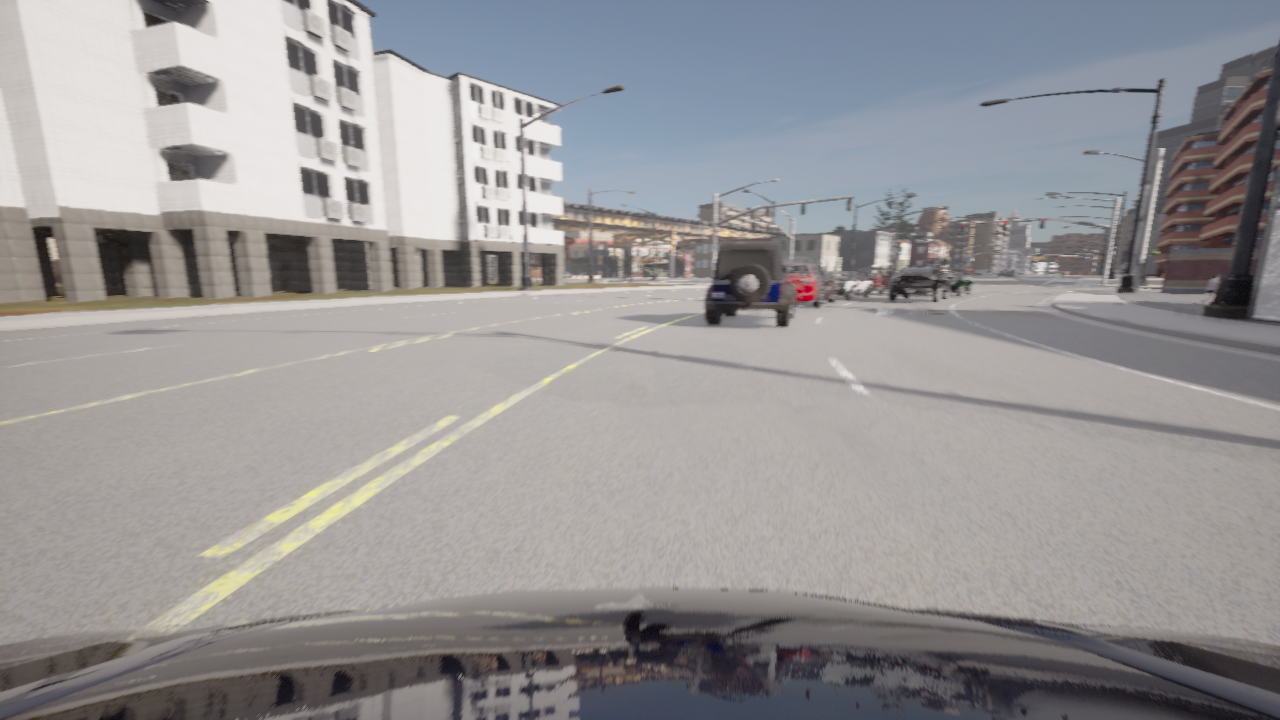cyclist: (0, 588, 1279, 719), (705, 242, 796, 327), (783, 261, 836, 307), (889, 266, 952, 302), (827, 272, 871, 299), (857, 268, 895, 295), (942, 272, 972, 296), (564, 272, 577, 277), (579, 272, 588, 277)
pedestrian: (1201, 275, 1219, 303), (1119, 268, 1125, 282), (630, 274, 632, 281)
